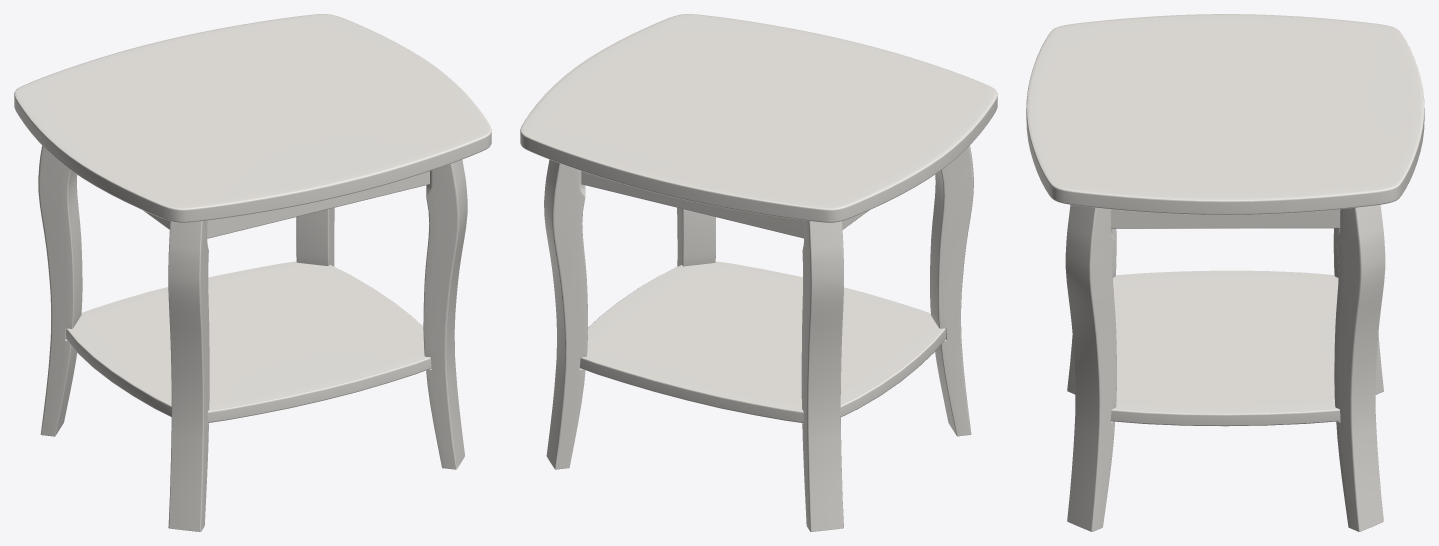
File: table_B07DBGHSN7.glb
3 views of the same model, side by side, from view 1: azimuth 30°, elevation 25°; view 2: azimuth 150°, elevation 25°; view 3: azimuth 270°, elevation 25° (orthographic). The views are drawn at different scales.
Parts seen in each view (by area): view 1: RootNode; view 2: RootNode; view 3: RootNode.
Part boxes in pixels (left/top/right/bottom): RootNode: left=14, top=14, right=491, bottom=531; RootNode: left=520, top=14, right=997, bottom=531; RootNode: left=1026, top=14, right=1424, bottom=531.
Size of the model in its own units: 0.5023 by 0.4375 by 0.4514.
Materials: 1 (1 with a texture image).
